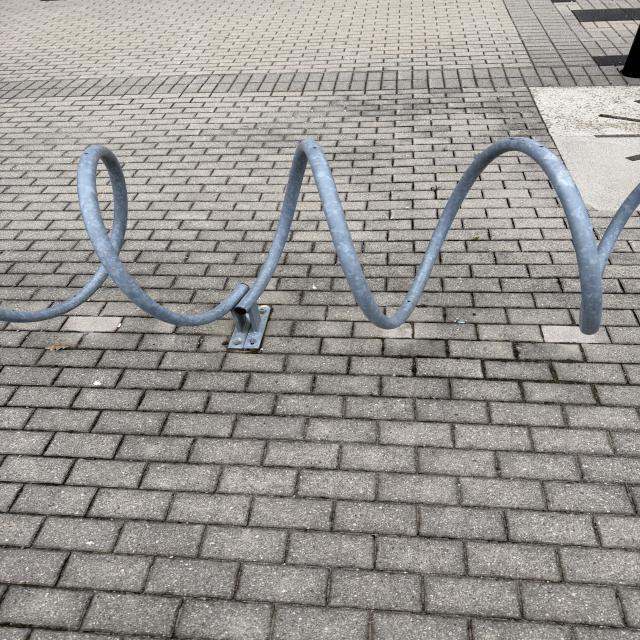Bicycle Rack: (0, 136, 640, 355)
